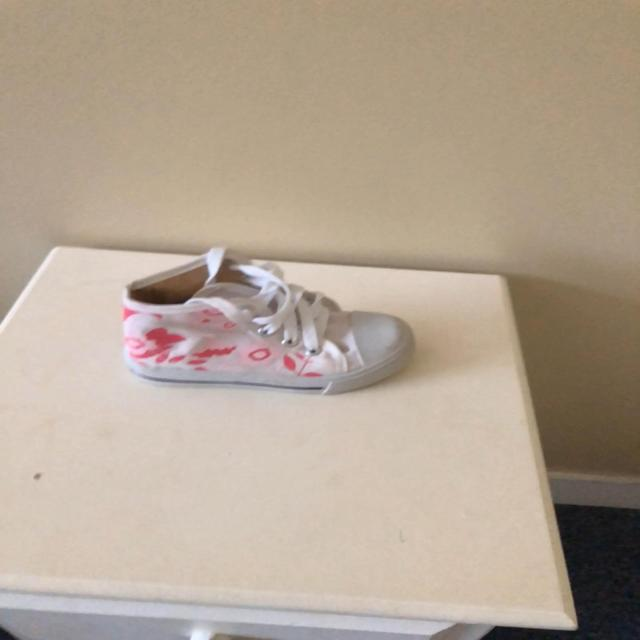shoe: (122, 250, 415, 396)
